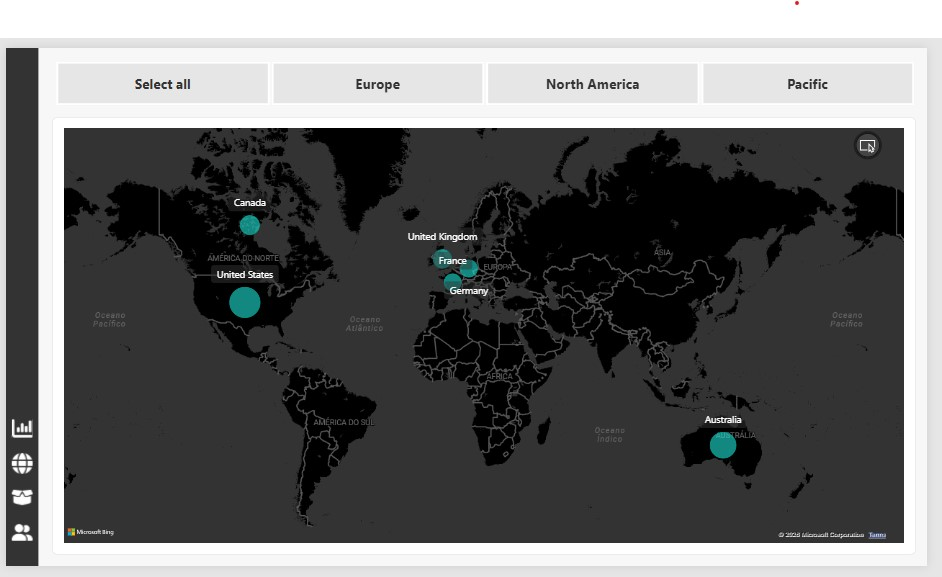

This screenshot's page, from the dashboard's own definition file:
{"tool":"powerbi","page":{"name":"Map","canvas":[1280,720],"ordinal":1},"visuals":[{"type":"shape","box":[0,-368,45,1088],"z":0},{"type":"actionButton","box":[0,496,48,64],"z":0,"group":"g1"},{"type":"map","fields":{"Category":["Territory Lookup.Country"],"Size":["Measure Table.Total Orders"]},"box":[64,96,1200,608],"z":1000},{"type":"actionButton","box":[0,544,48,64],"z":1000,"group":"g1"},{"type":"slicer","fields":{"Values":["Territory Lookup.Continent"]},"box":[48,16,1232,65],"z":2000},{"type":"actionButton","box":[0,592,48,64],"z":2000,"group":"g1"},{"type":"group","id":"g1","title":"Navigation Buttons","box":[0,496,48,208],"z":3000},{"type":"actionButton","box":[0,640,48,64],"z":3000,"group":"g1"}]}

Visuals, with their boxes on the page's 1280x720 design canvas (x1, y1, x2, y2). These are canvas units, not pixel positions in the 942x577 screenshot, which may show the page scaled, cropped or inside an application window:
shape: <region>0, -368, 45, 720</region>
actionButton: <region>0, 496, 48, 560</region>
map - Territory Lookup.Country x Measure Table.Total Orders: <region>64, 96, 1264, 704</region>
actionButton: <region>0, 544, 48, 608</region>
slicer - Territory Lookup.Continent: <region>48, 16, 1280, 81</region>
actionButton: <region>0, 592, 48, 656</region>
"Navigation Buttons" group: <region>0, 496, 48, 704</region>
actionButton: <region>0, 640, 48, 704</region>
